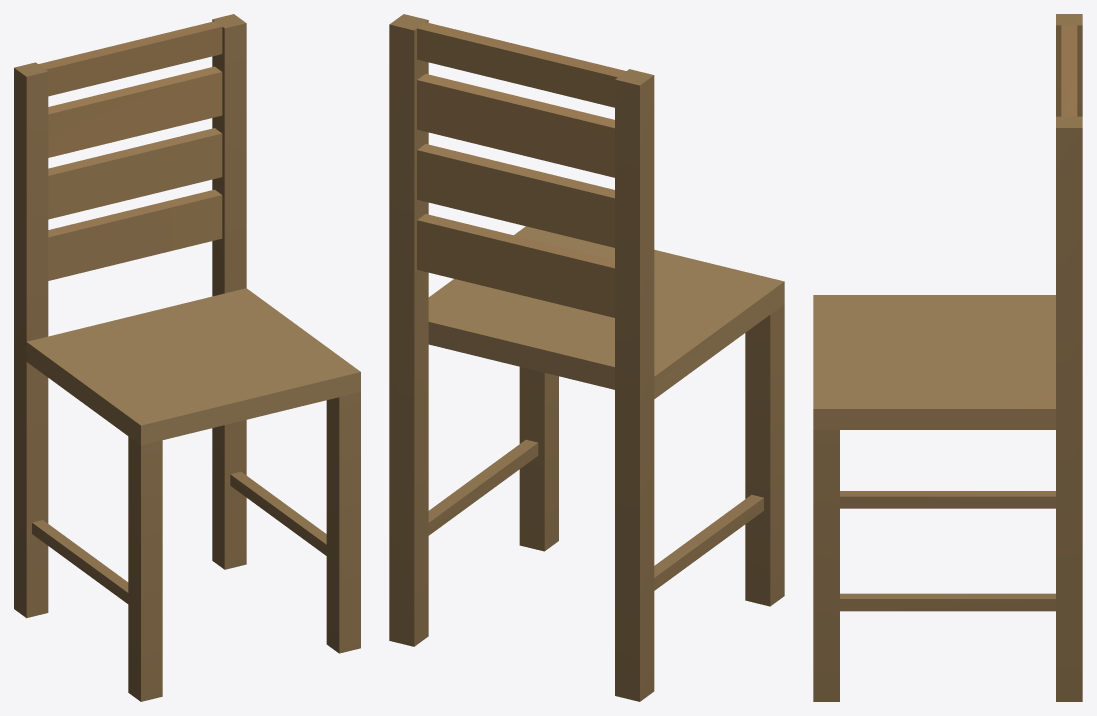
File: seat.chair.ladder.glb
3 renders of one model, left to right at view 1: azimuth 30°, elevation 25°; view 2: azimuth 150°, elevation 25°; view 3: azimuth 270°, elevation 25°, orthographic. The views are drawn at different scales.
Visible parts, largest first — view 1: seat_chair_ladder; view 2: seat_chair_ladder; view 3: seat_chair_ladder.
Boxes of the visible parts, bbox=[...] form: seat_chair_ladder: bbox=[14, 14, 360, 701]; seat_chair_ladder: bbox=[389, 14, 784, 701]; seat_chair_ladder: bbox=[813, 14, 1082, 701].
Size of what is drawn, in the model's own units: 0.404 by 0.95 by 0.404.
